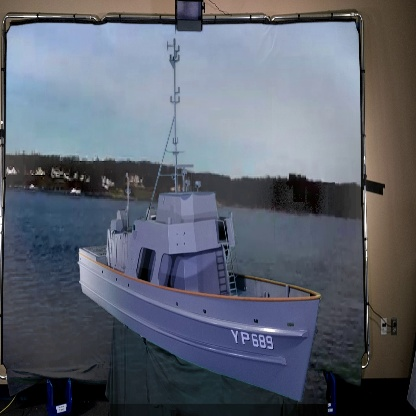YP689: (78, 39, 320, 402)
